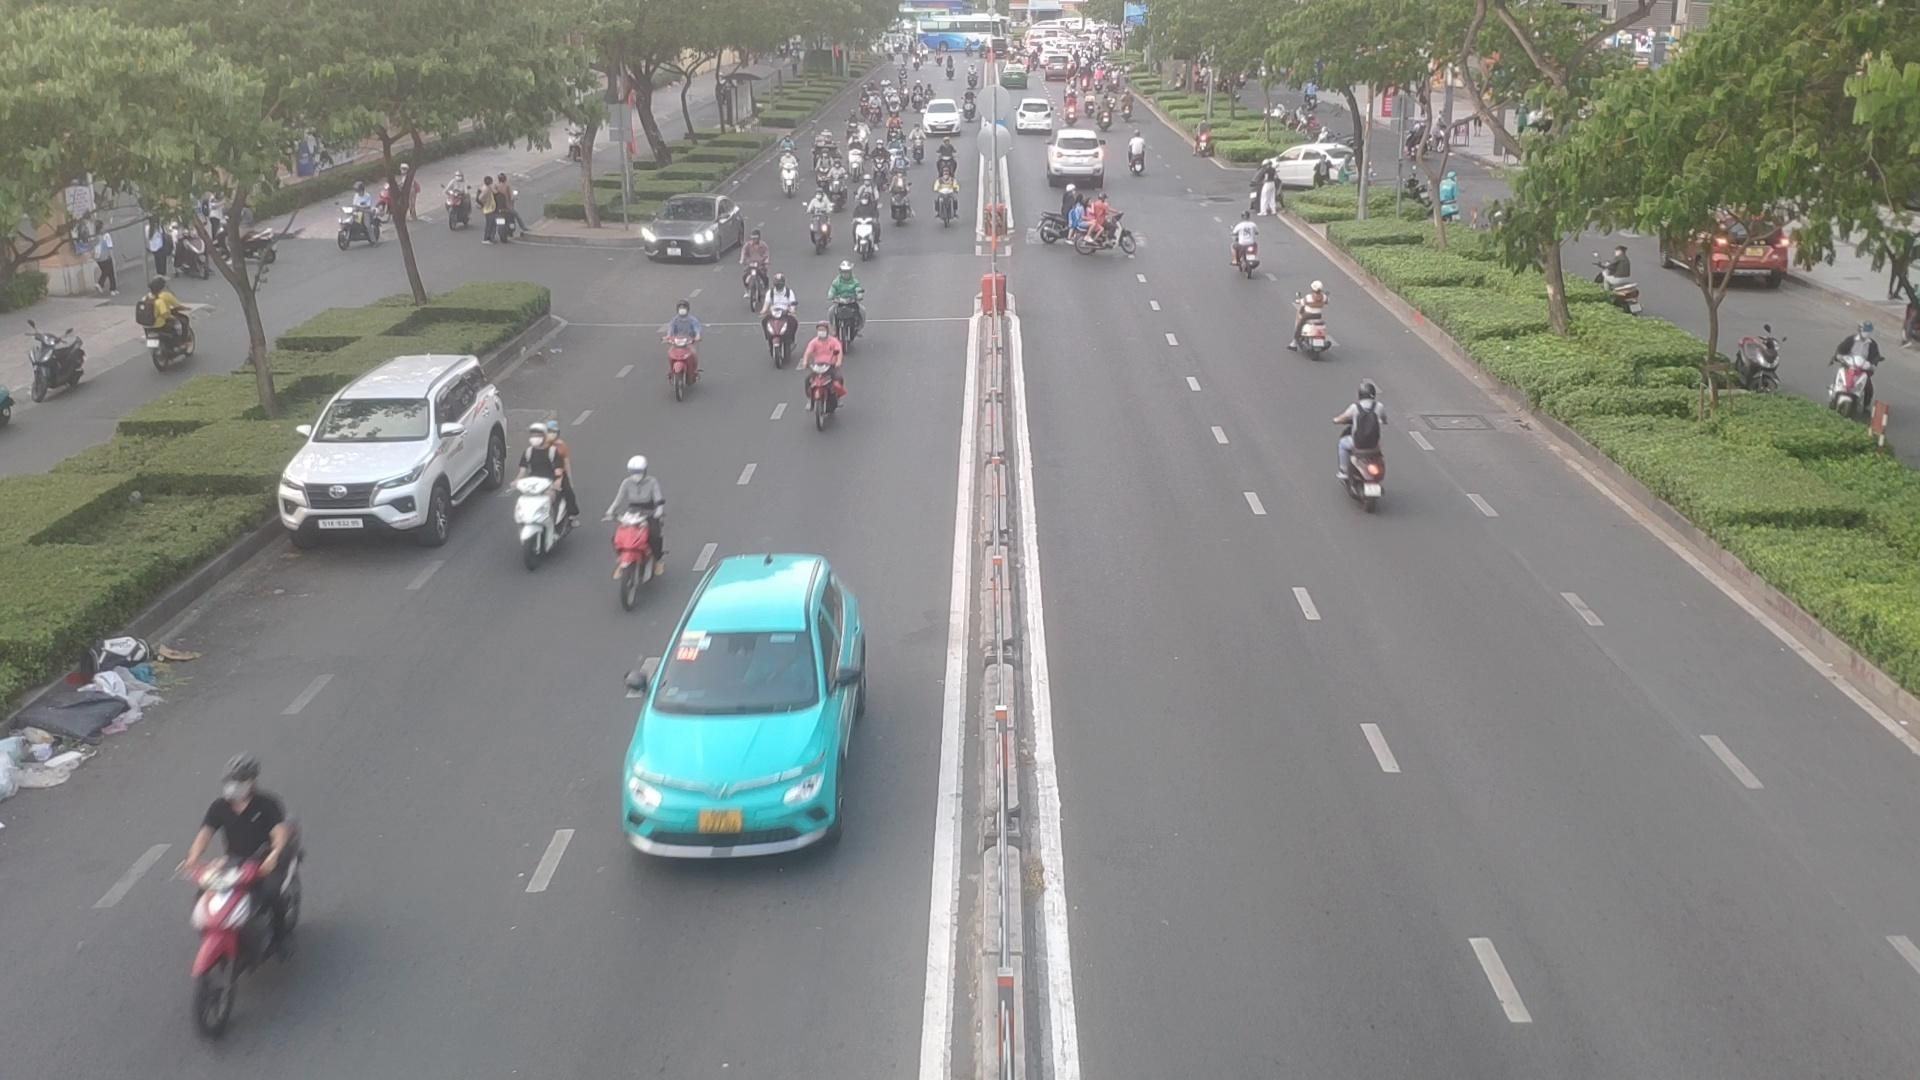car: (615, 555, 862, 855), (272, 351, 516, 543), (637, 198, 748, 266), (1271, 142, 1357, 193), (1048, 129, 1102, 179)
motorbike: (142, 745, 313, 1033), (504, 425, 582, 584), (611, 452, 675, 595), (1329, 382, 1389, 500), (1065, 193, 1139, 256), (665, 295, 707, 386), (825, 260, 872, 339), (1284, 276, 1324, 367), (808, 323, 847, 417), (766, 272, 796, 369), (855, 193, 880, 260), (932, 167, 961, 222), (746, 228, 765, 309), (1236, 220, 1261, 278), (891, 171, 910, 225), (814, 191, 829, 251), (938, 137, 956, 179), (831, 160, 847, 207), (1129, 129, 1145, 175), (887, 131, 905, 171), (849, 137, 864, 179), (781, 150, 793, 199), (913, 124, 927, 164), (816, 153, 832, 187), (873, 141, 884, 189)
